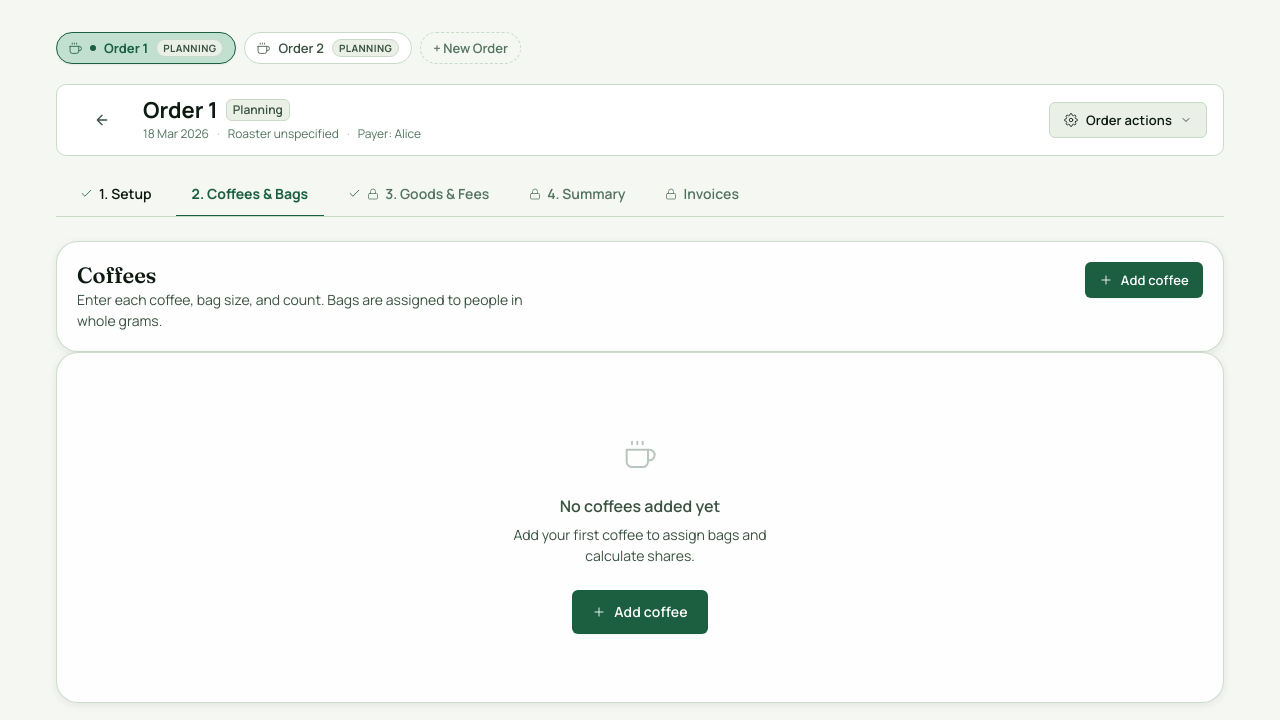
Test: OrderPage component tests › BUG-ORD-02: switches key with currentOrder.id across tabs
Expected: the heading with class "order-header-title" reads "Order 1", [143, 95, 218, 125]
Click the tab with class "order-tab-chip" showing "Order 2 Planning". click: [328, 48]
box: [244, 32, 412, 64]
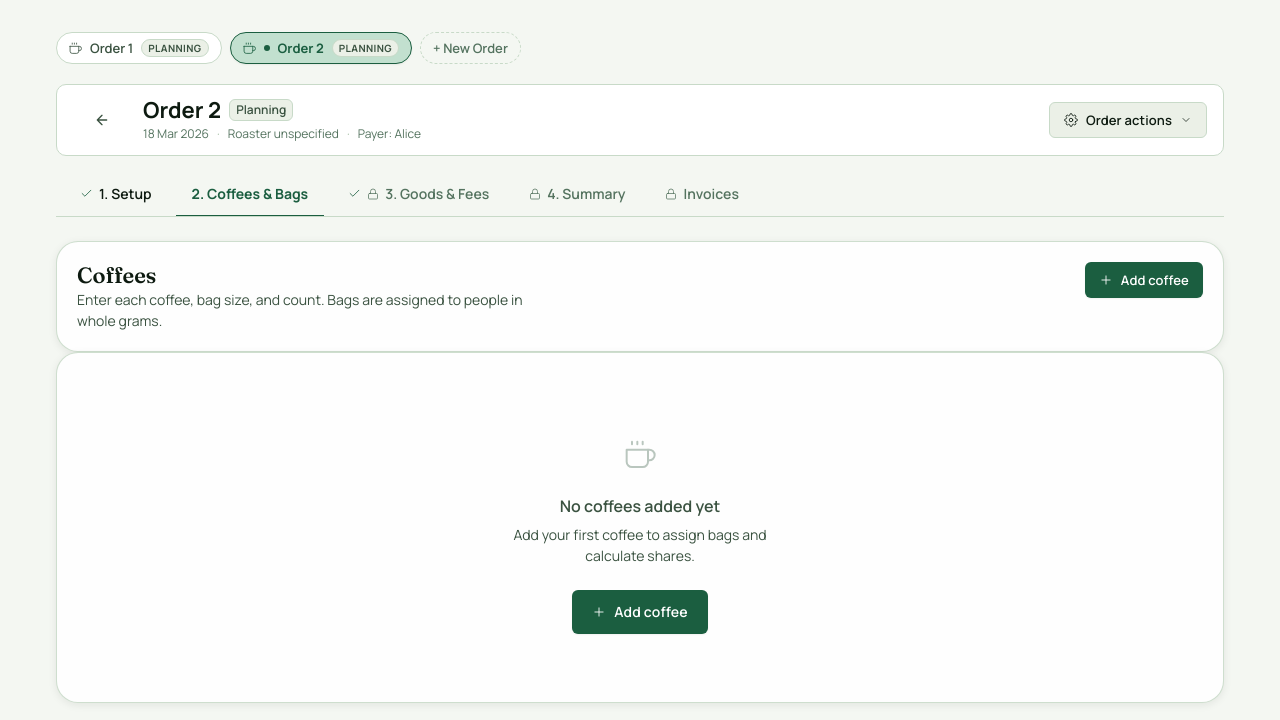
Expected: the heading with class "order-header-title" reads "Order 2", [143, 95, 221, 125]
